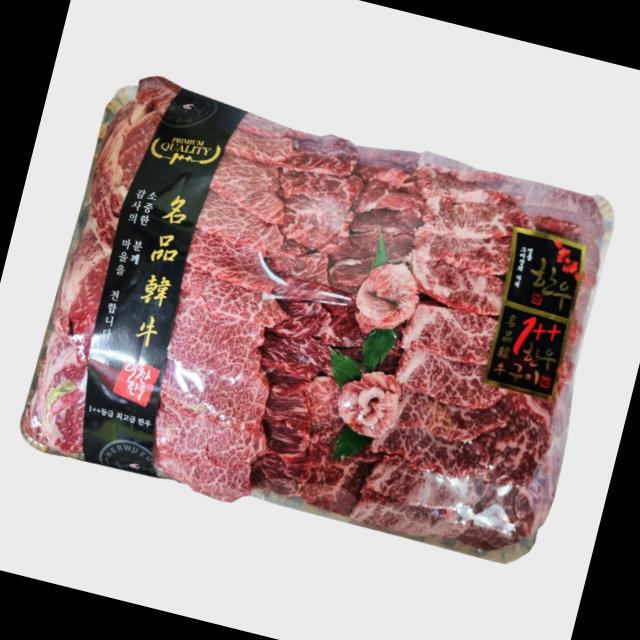beef: (36, 92, 596, 551)
